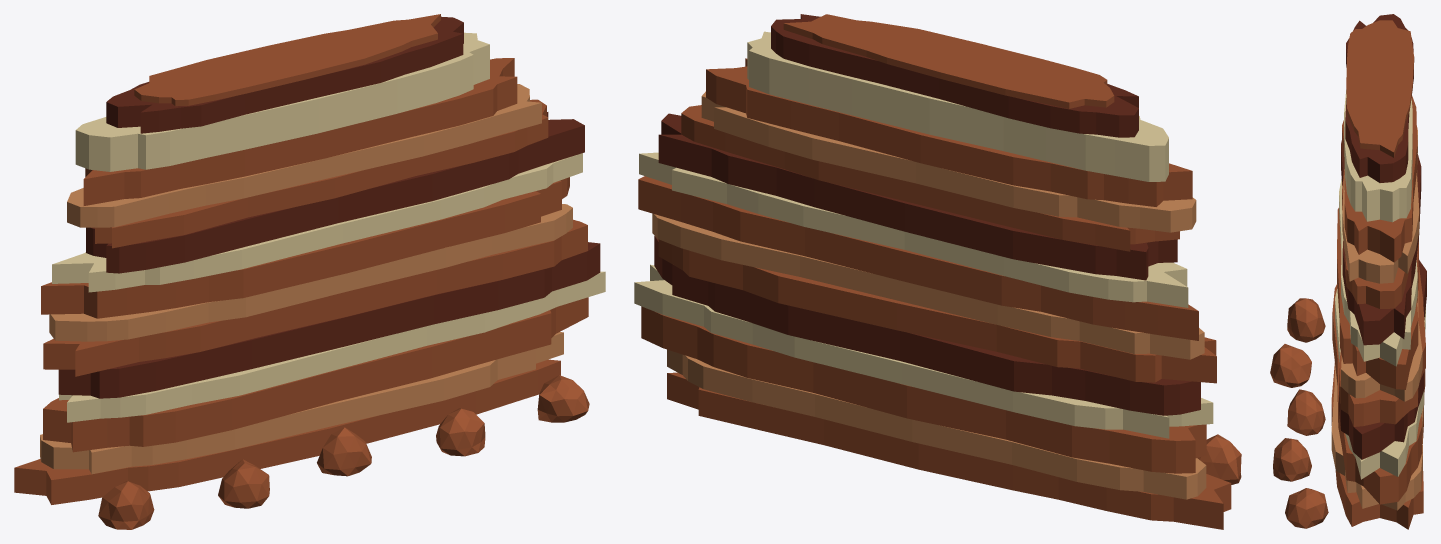
File: redrock_fin.glb
The picture shows the model from 3 angles, left to right: view 1: azimuth 30°, elevation 25°; view 2: azimuth 150°, elevation 25°; view 3: azimuth 270°, elevation 25°; orthographic projection. The views are drawn at different scales.
Visible parts, largest first — view 1: redrock_fin; view 2: redrock_fin; view 3: redrock_fin.
Boxes of the visible parts, <box> form: redrock_fin: <box>14,14,605,529</box>; redrock_fin: <box>634,14,1241,529</box>; redrock_fin: <box>1270,14,1426,529</box>.
Bounding box in the file's own units: 15.76 × 10.1 × 4.27.
